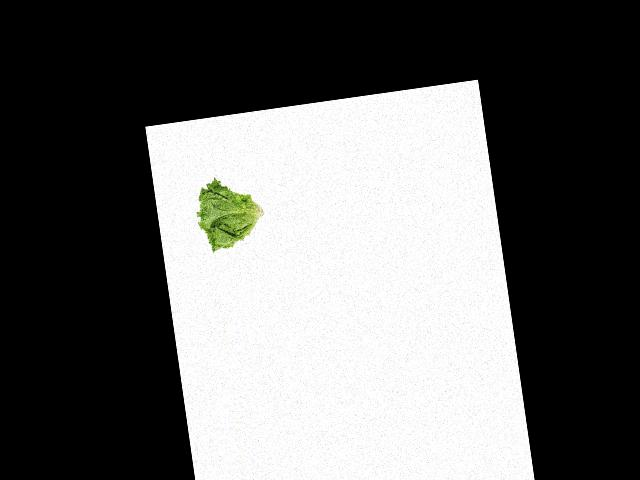lettuce: (189, 174, 270, 255)
